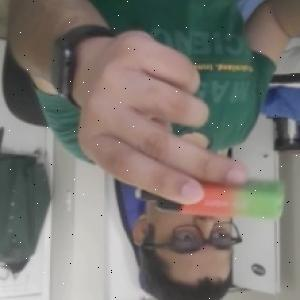Swift-E-Ciggirate: (133, 178, 288, 225)
